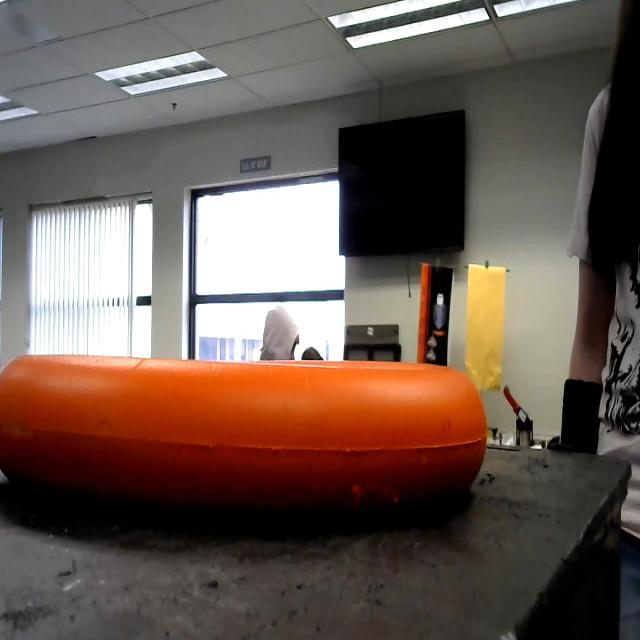note: (0, 326, 514, 532)
